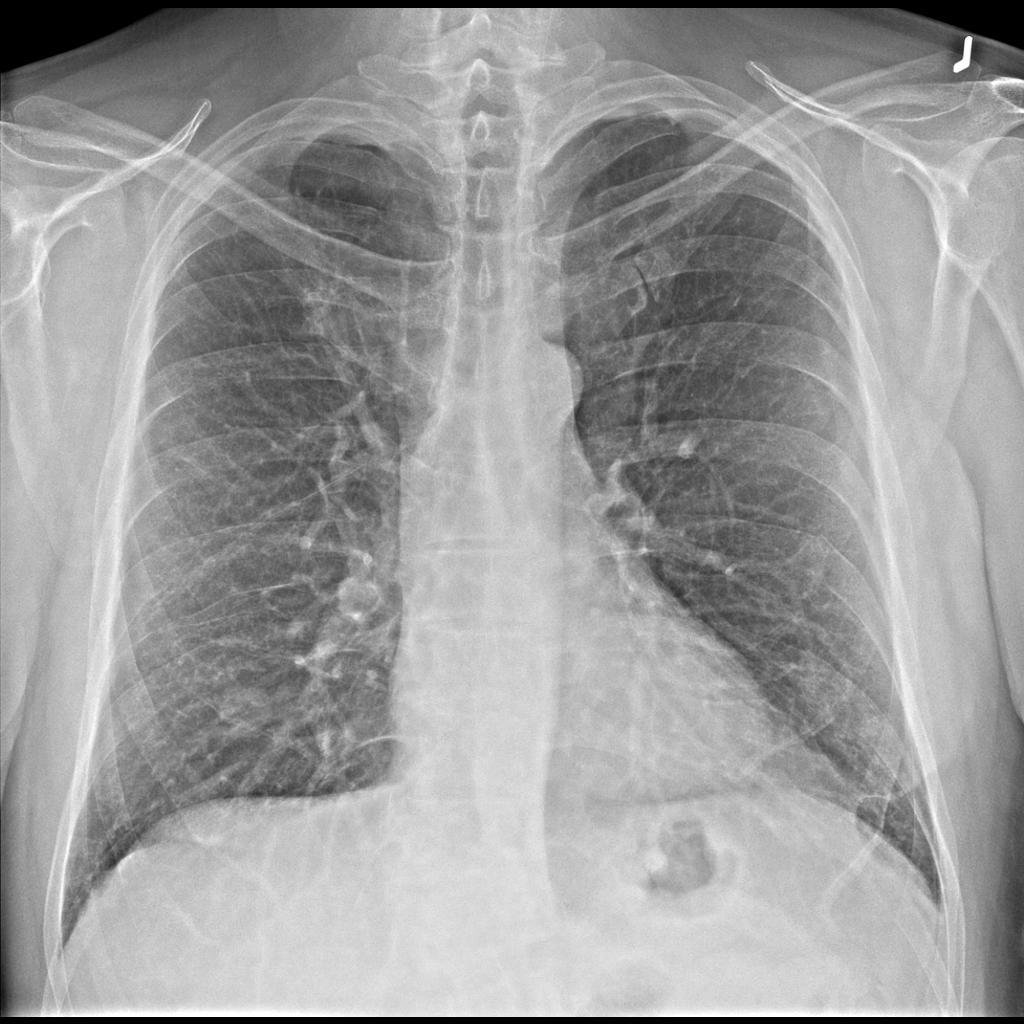Nodule: (209, 671, 292, 745)
